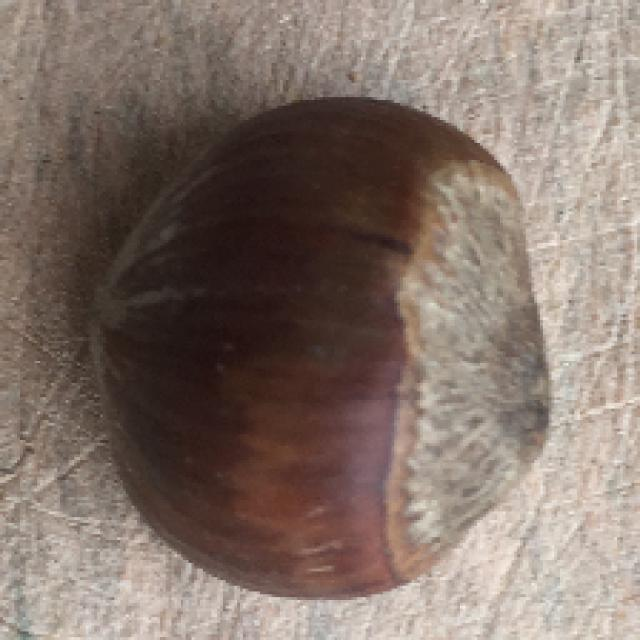DamagedHazelnut: (91, 102, 555, 585)
